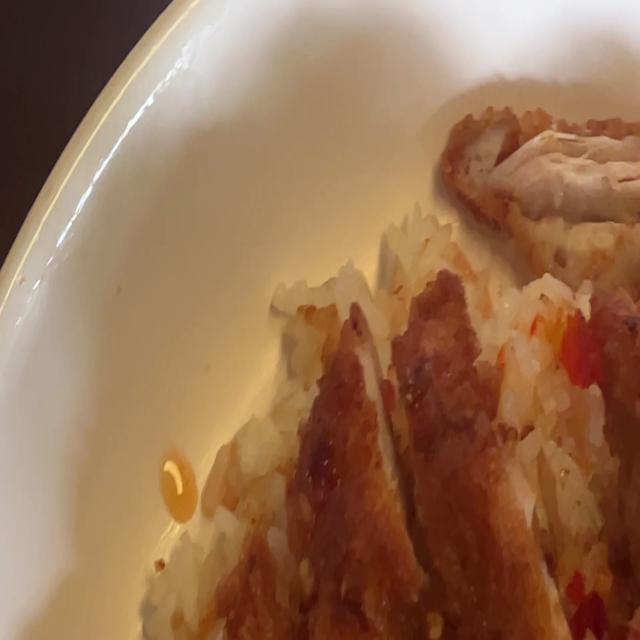chicken_rice: (155, 109, 640, 640)
fried_chicken: (289, 106, 640, 640)
